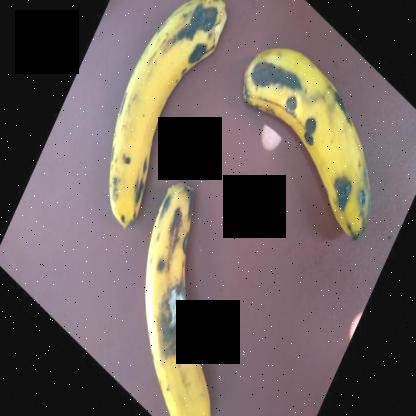overripe: (87, 0, 231, 222), (242, 32, 379, 244)
ripe: (128, 165, 244, 415)
rotten: (157, 253, 222, 387)
